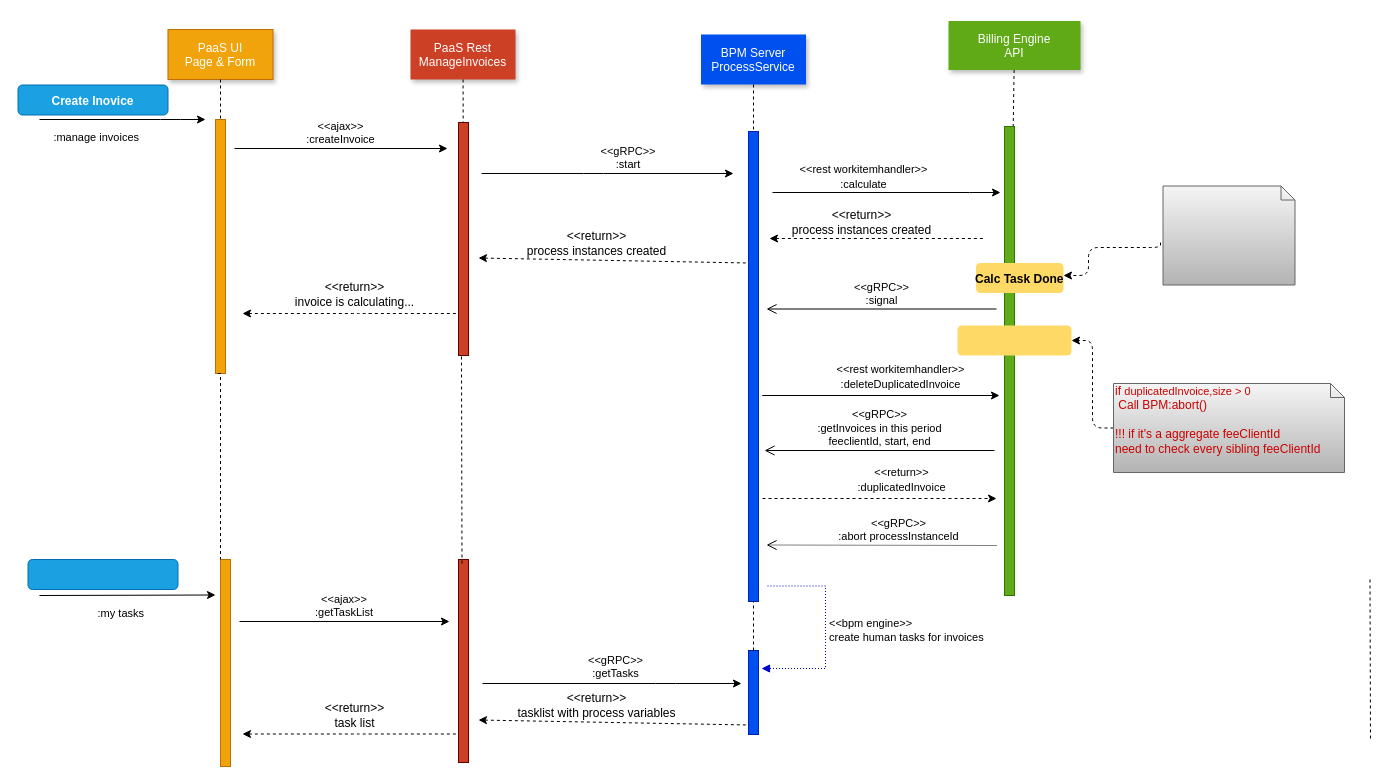
Some shapes in this 1389 by 784 pixel diagram are drawn without their labels. The shapes that lost their labels are listed below. From the top down, each one's centre as x and y in pixels, then its label:
At (x=1228, y=235): "execute the calculate task in asynchronous mode 5 mins ~ 90 mins".
At (x=1014, y=340): "Delete Duplicated Invoices".
At (x=102, y=574): "View Task List".
